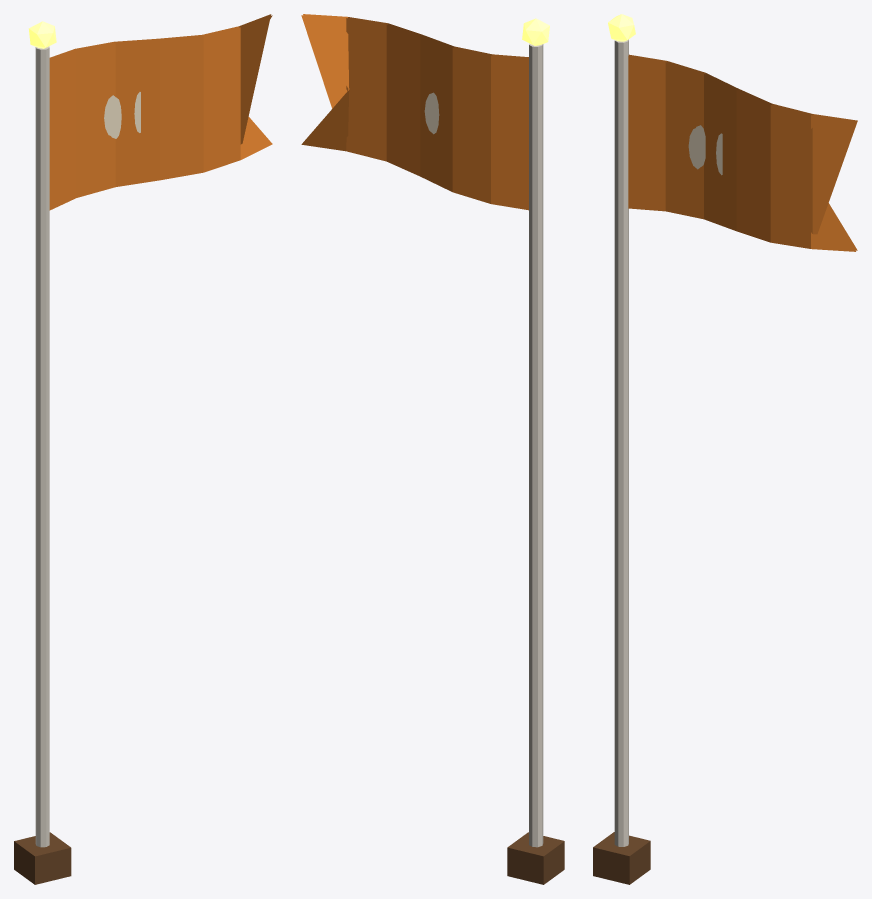
Rendered from pennant-pole.glb.
3 renders of one model, left to right at view 1: azimuth 30°, elevation 25°; view 2: azimuth 150°, elevation 25°; view 3: azimuth 330°, elevation 25°, orthographic.
Visible parts, largest first — view 1: pennant-pole; view 2: pennant-pole; view 3: pennant-pole.
Part boxes in pixels (x1,y1,x2,y2): pennant-pole: (14, 14, 272, 884); pennant-pole: (301, 14, 564, 884); pennant-pole: (593, 14, 857, 884).
Bounding box in the file's own units: 2.75 × 8.97 × 0.4.
